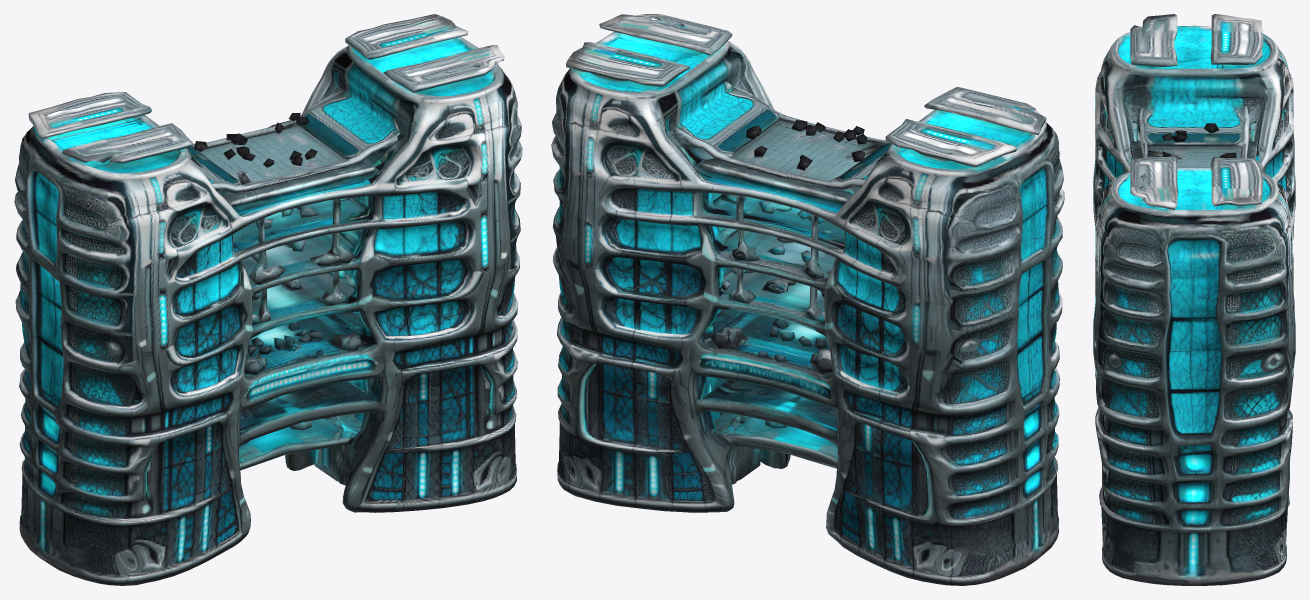
Rendered from futuristic-building-b.glb.
The picture shows the model from 3 angles, left to right: view 1: azimuth 30°, elevation 25°; view 2: azimuth 150°, elevation 25°; view 3: azimuth 270°, elevation 25°; orthographic projection. The views are drawn at different scales.
Bounding box in the file's own units: 1.91 × 1.67 × 0.8102.
1 material, 1 textured.
